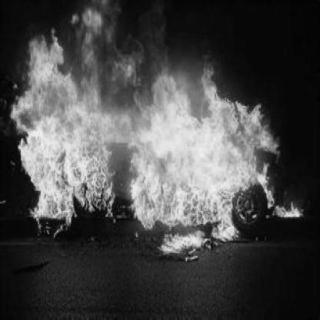Fire: (2, 2, 308, 255)
